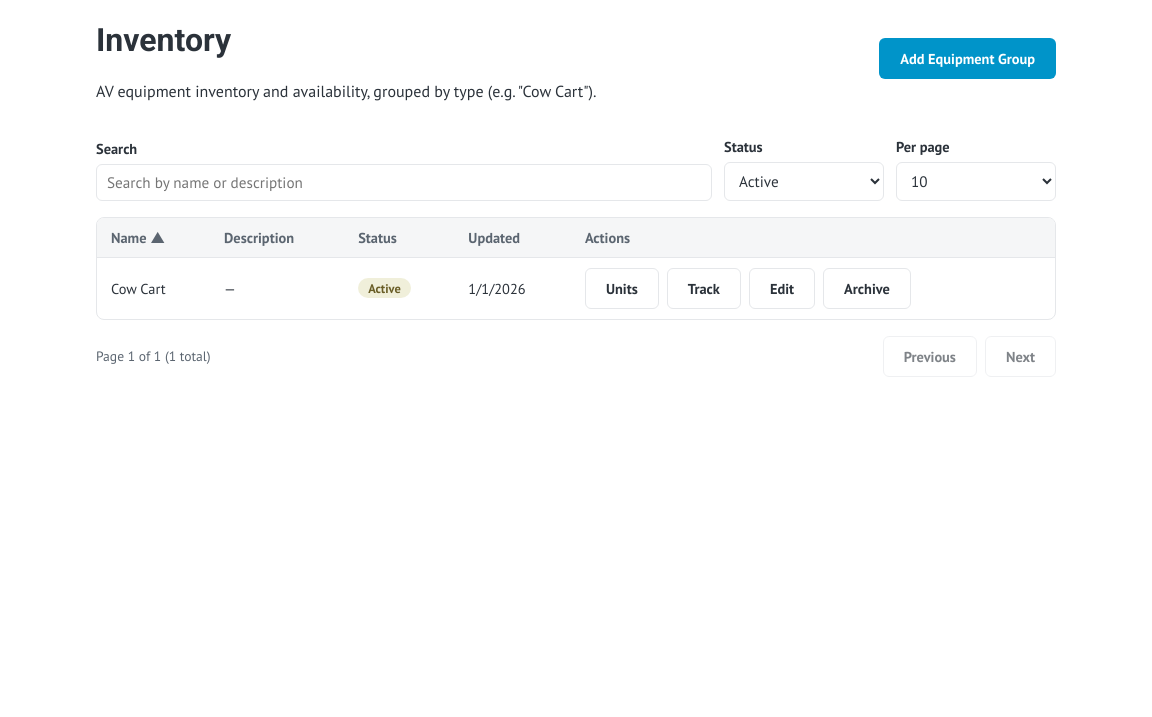
tracks a group: shows each unit's rooms and times for the chosen date
Step 1. Click the button "Track" → (704, 288), box [667, 268, 741, 309]
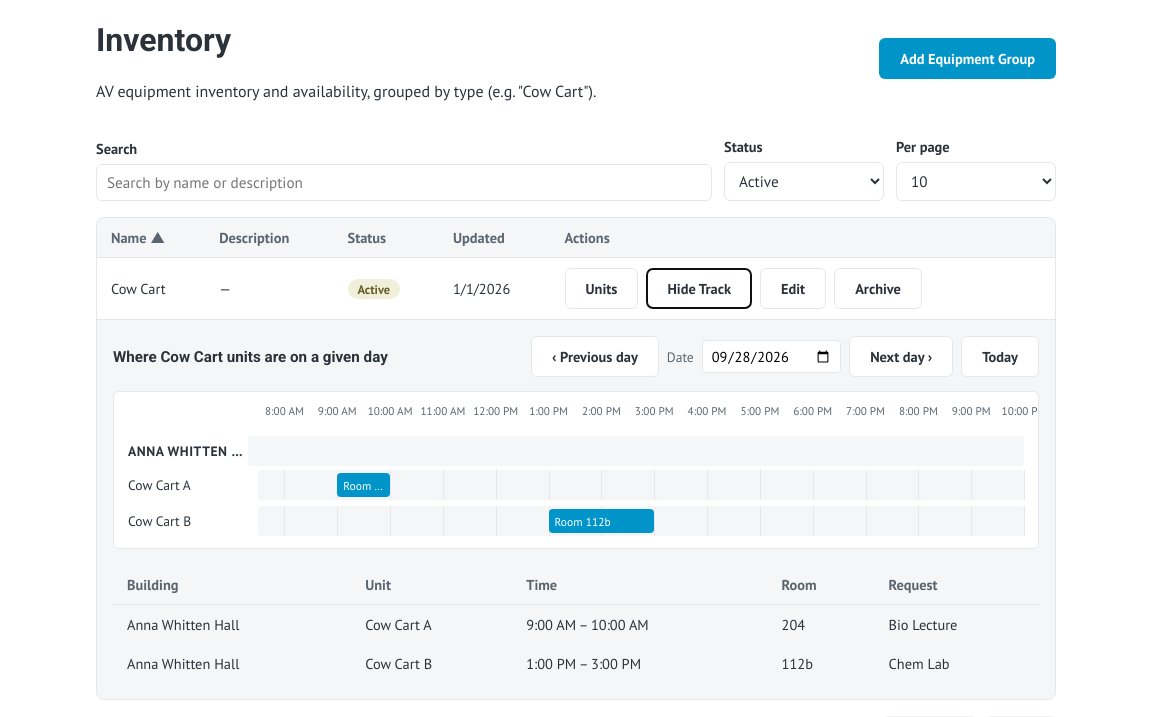
Now the text "9:00 AM – 10:00 AM" is shown, box [512, 605, 768, 644]
Now the text "1:00 PM – 3:00 PM" is shown, box [512, 644, 768, 683]
Now the text "204" is shown, box [768, 605, 874, 644]
Step 2. Click the button "Hide Track" → (699, 288), box [646, 268, 752, 309]
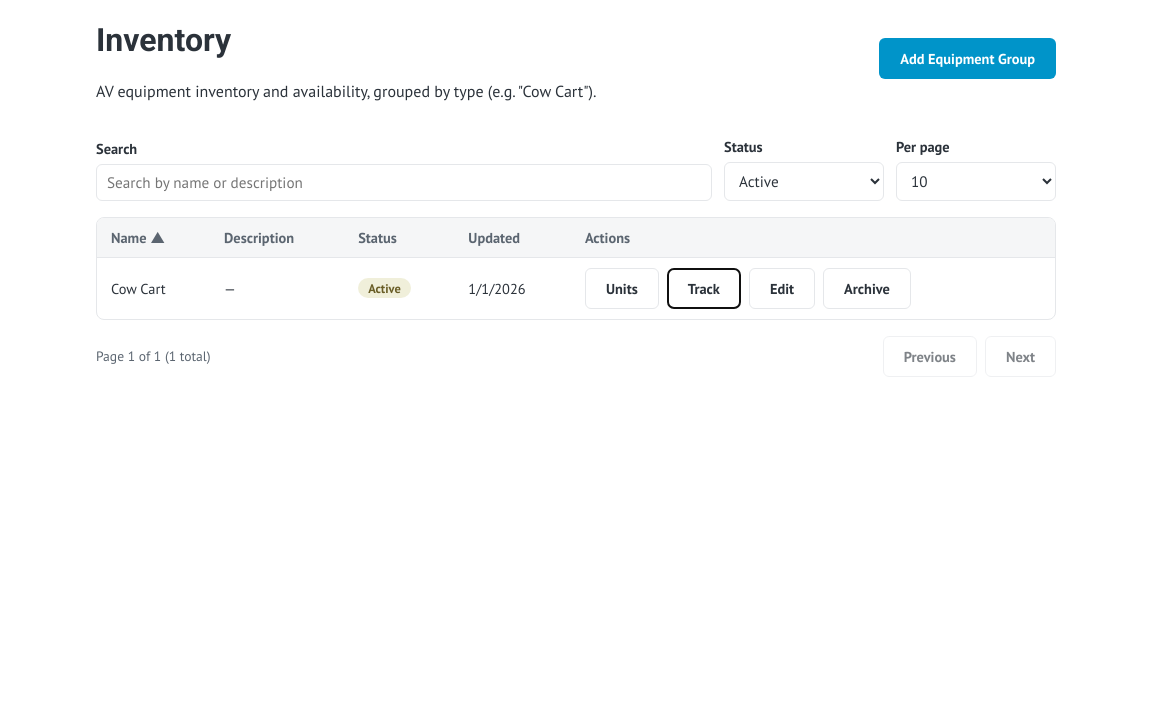
Now the text "1:00 PM – 3:00 PM" is gone
